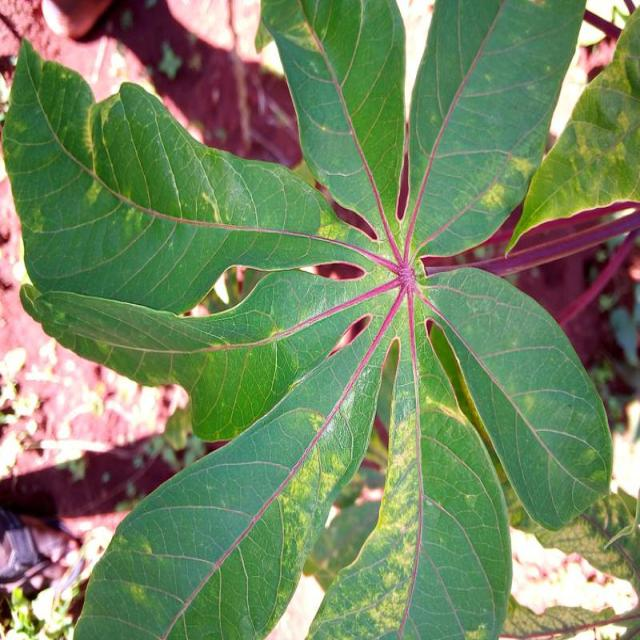cassava leaf: (4, 1, 631, 637), (73, 309, 395, 638), (505, 4, 640, 258)
